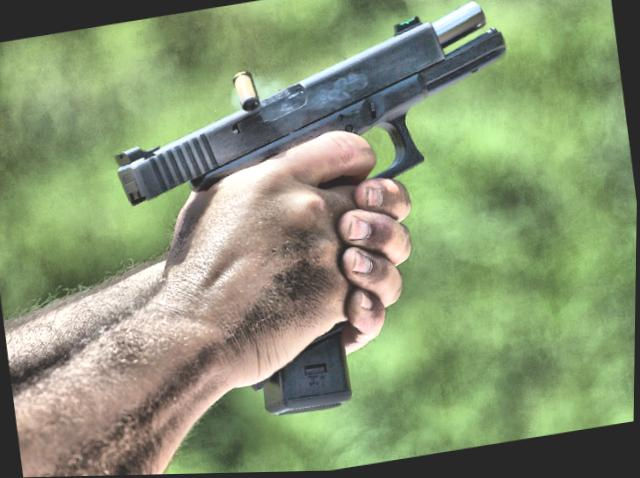pistol: (93, 0, 562, 431)
